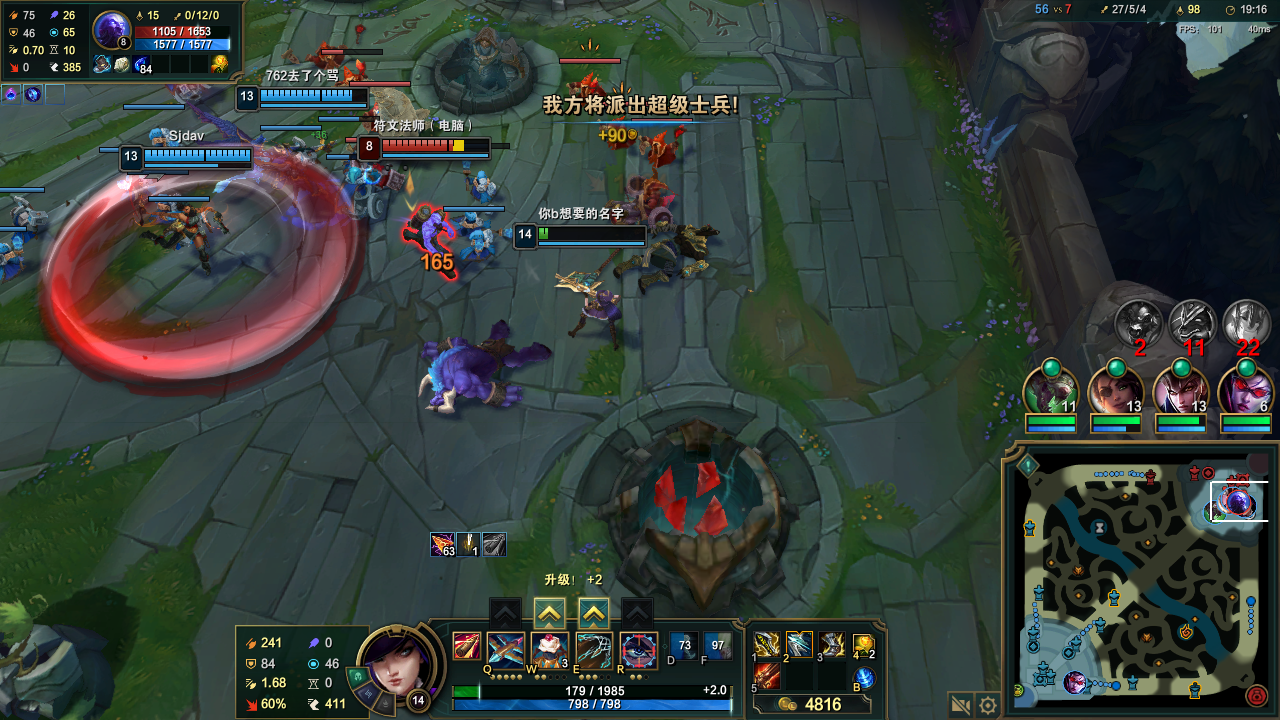DFXB: (645, 130, 676, 169), (565, 76, 605, 98), (362, 102, 385, 129), (337, 75, 363, 87)
DFYX: (380, 138, 488, 158)
Shenji: (582, 603, 605, 625)
Tuijianshengji: (541, 599, 560, 623)
WFXB: (335, 156, 390, 208), (4, 197, 54, 236), (467, 231, 501, 265), (470, 178, 501, 204), (144, 125, 176, 148), (452, 206, 478, 226)
